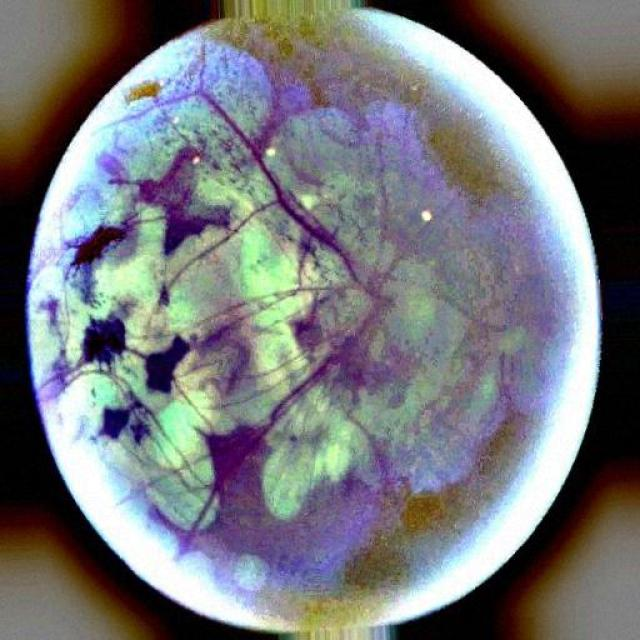Macula: (75, 222, 121, 274), (148, 336, 186, 397), (83, 315, 124, 368)
Nerves: (202, 97, 364, 286), (255, 303, 377, 431), (169, 202, 276, 287), (162, 214, 225, 226)
Optic Disk: (275, 202, 431, 358)
